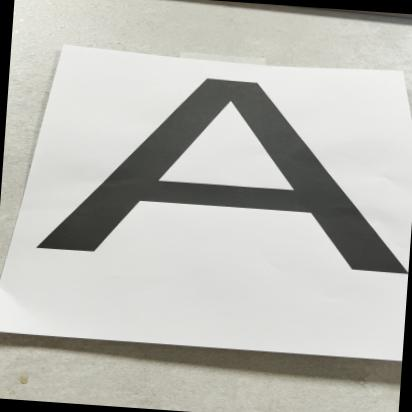seat: (36, 60, 412, 309)
